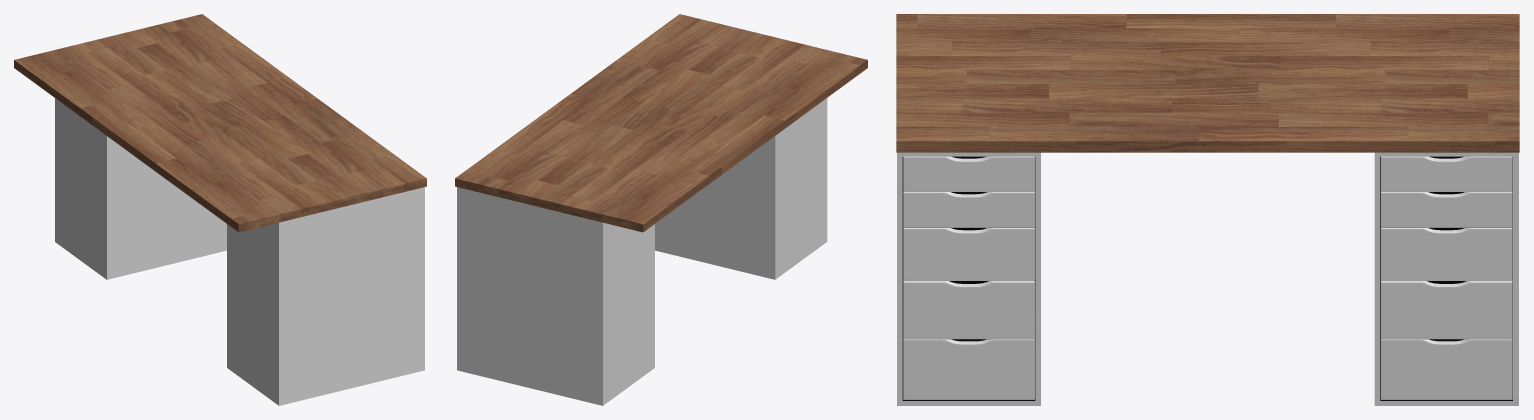
Rendered from alex_desk_1.02Dx1.55Wx0.73H-transformed.glb.
3 renders of one model, left to right at view 1: azimuth 30°, elevation 25°; view 2: azimuth 150°, elevation 25°; view 3: azimuth 270°, elevation 25°, orthographic. The views are drawn at different scales.
Parts seen in each view (by area): view 1: Plane; view 2: Plane; view 3: Plane.
Boxes of the visible parts, x1=… form: Plane: x1=14, y1=14, x2=426, y2=405; Plane: x1=455, y1=14, x2=867, y2=405; Plane: x1=896, y1=14, x2=1519, y2=405.
Bounding box in the file's own units: 29.5 × 28.71 × 61.
3 materials, 1 textured.
